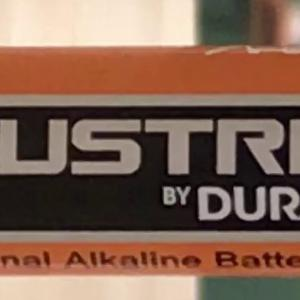ALK: (57, 242, 124, 275)
